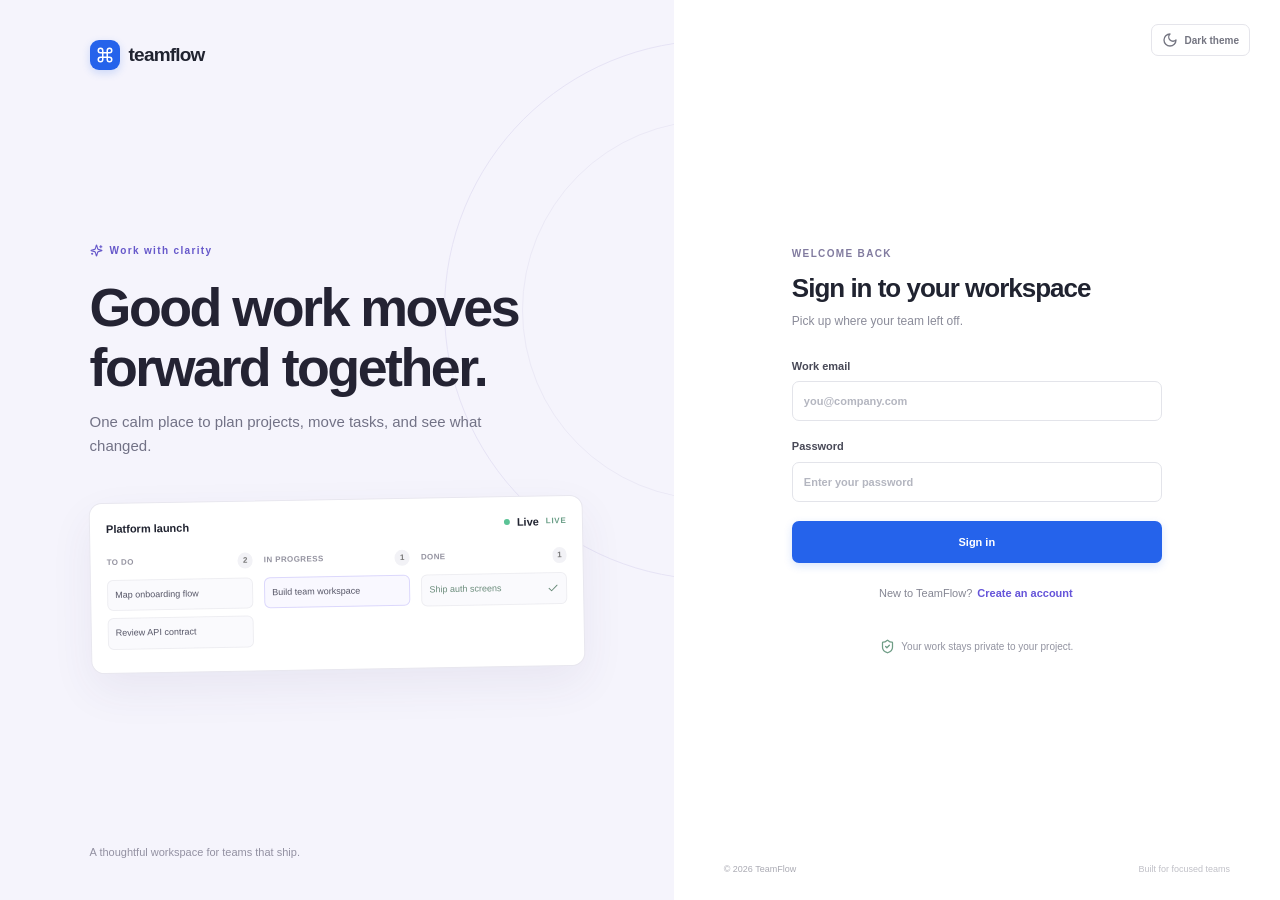
authentication form › rejects a too-short registration password before sending the request
Click the button "Create an account".
click(1025, 593)  # box [975,585,1075,601]
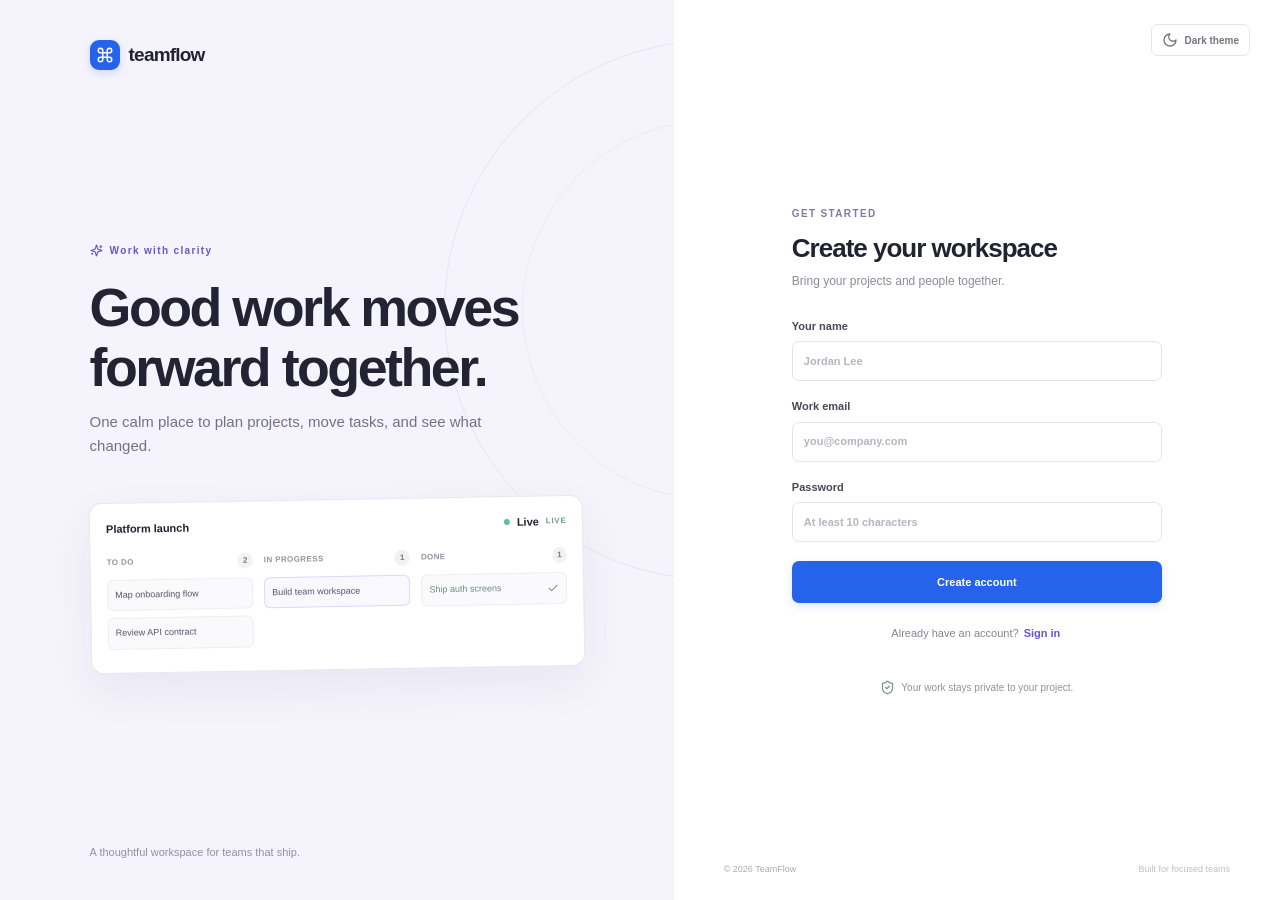
Type "Sam Lee" into the field labelled "Your name".
click(977, 361); type("Sam Lee")  # box [792,341,1162,381]
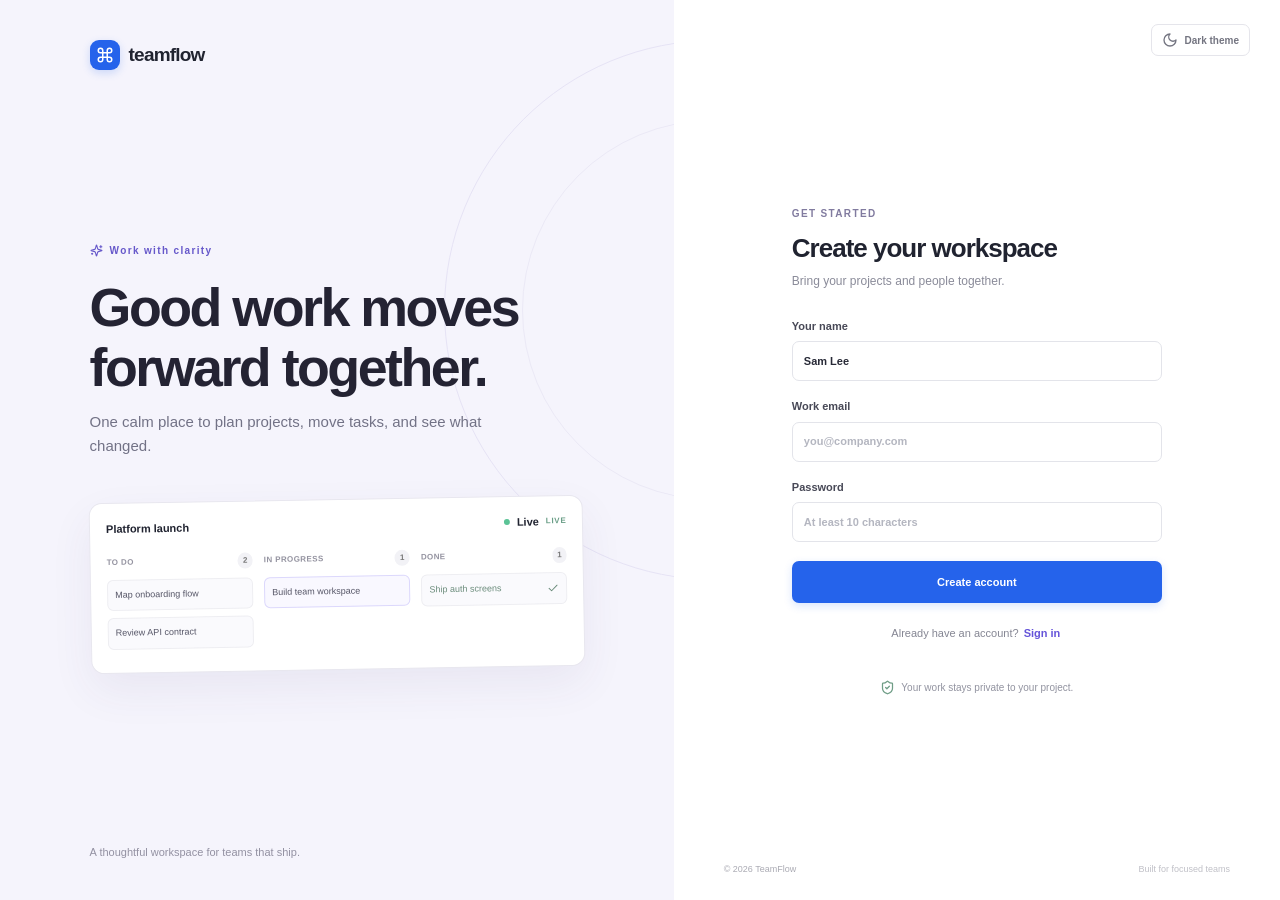
Type "sam@example.com" into the field labelled "Work email".
click(977, 442); type("sam@example.com")  # box [792,422,1162,462]
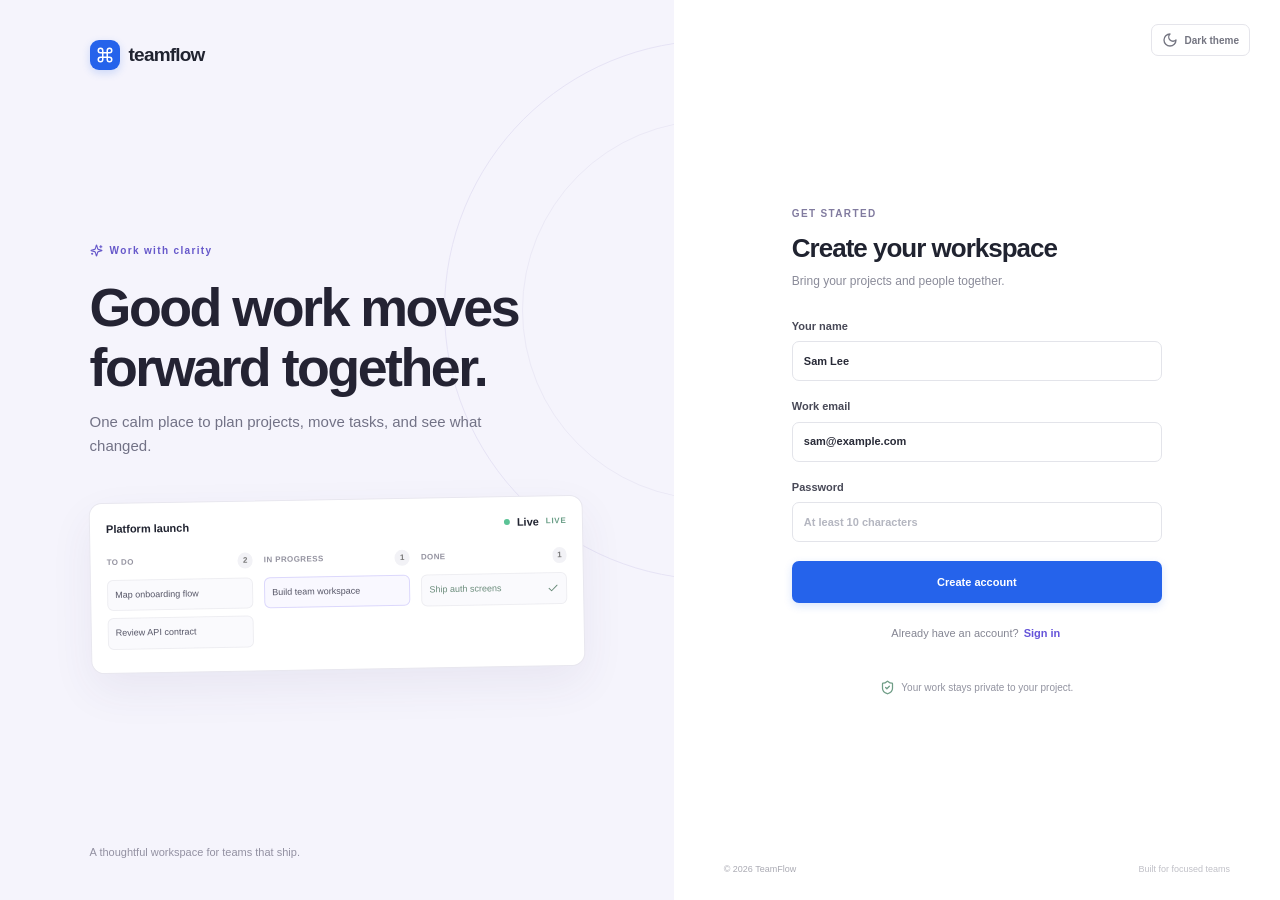
Type "short" into the password field labelled "Password".
click(977, 522); type("short")  # box [792,502,1162,542]
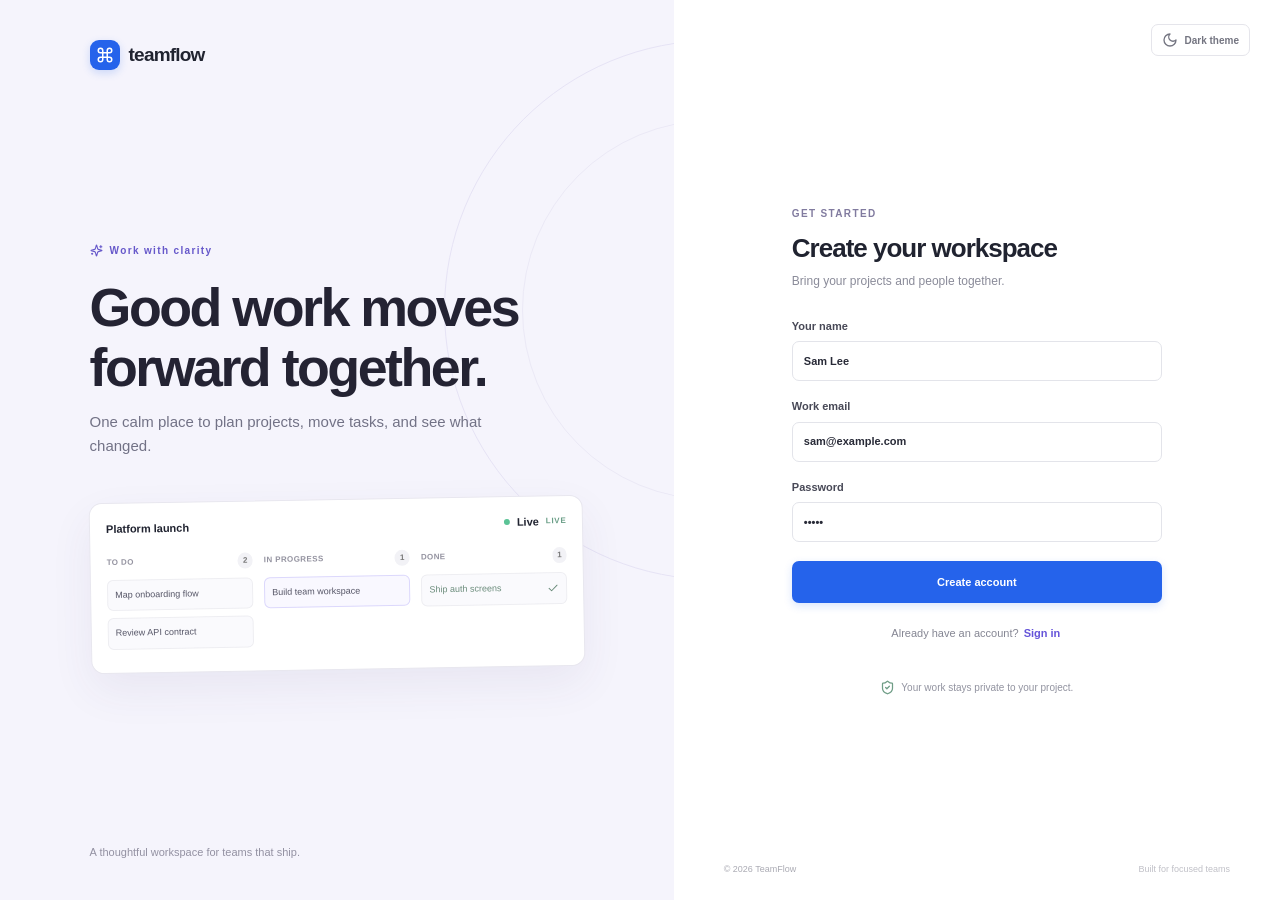
Submit the form labelled "Password", box [792,318,1162,603]
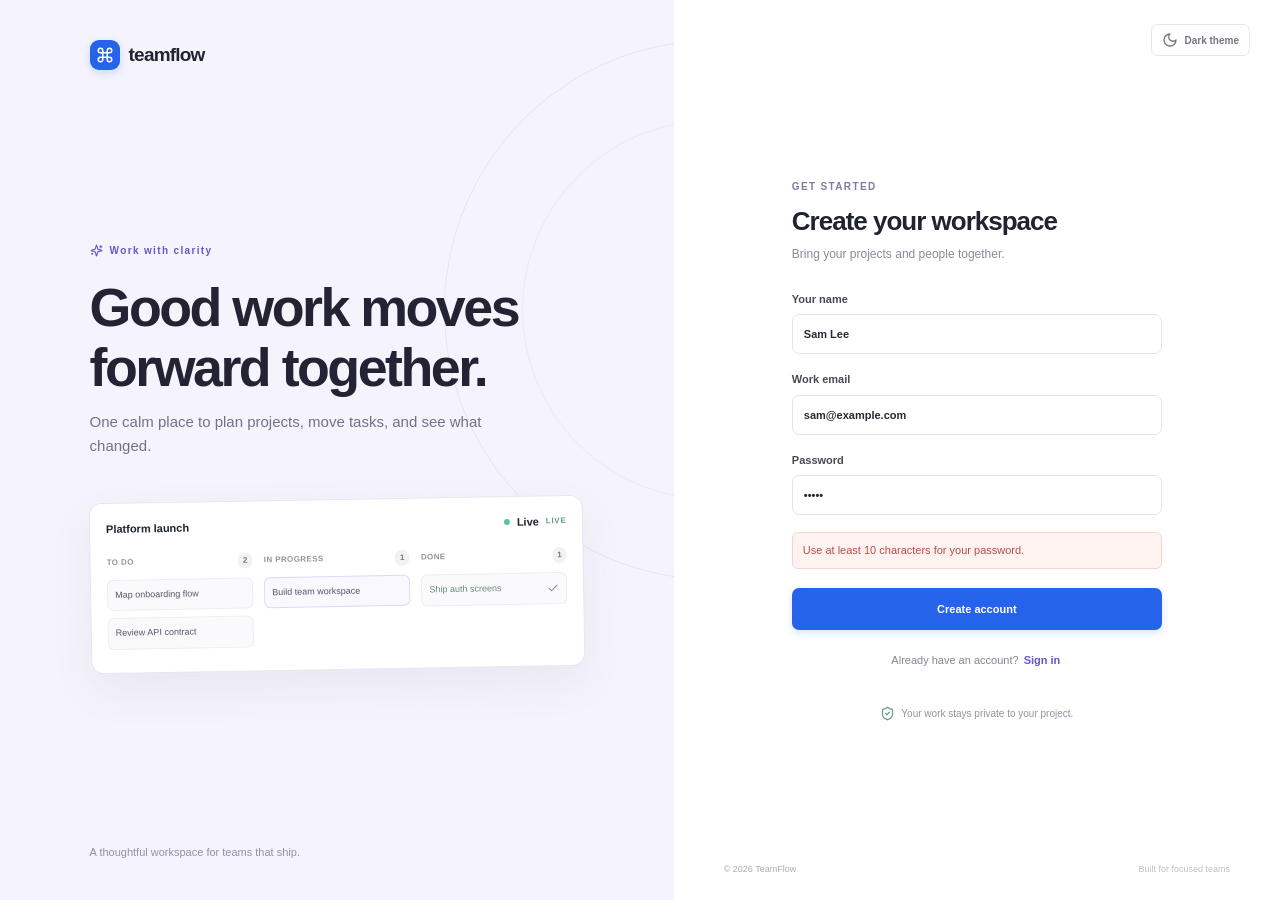
Expected: the message shows "at least 10 characters", [803,544,1024,556]
